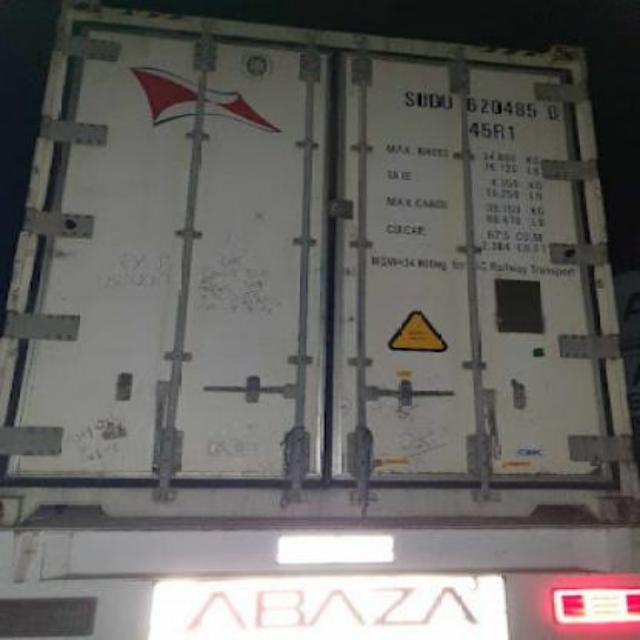0: (492, 97, 502, 115), (548, 105, 558, 118)
2: (479, 97, 489, 113)
4: (502, 99, 514, 115)
5: (526, 102, 538, 118)
6: (466, 96, 478, 112)
8: (514, 100, 526, 118)
D: (430, 94, 442, 110)
S: (404, 90, 416, 108)
U: (418, 92, 430, 110), (442, 93, 454, 111)
